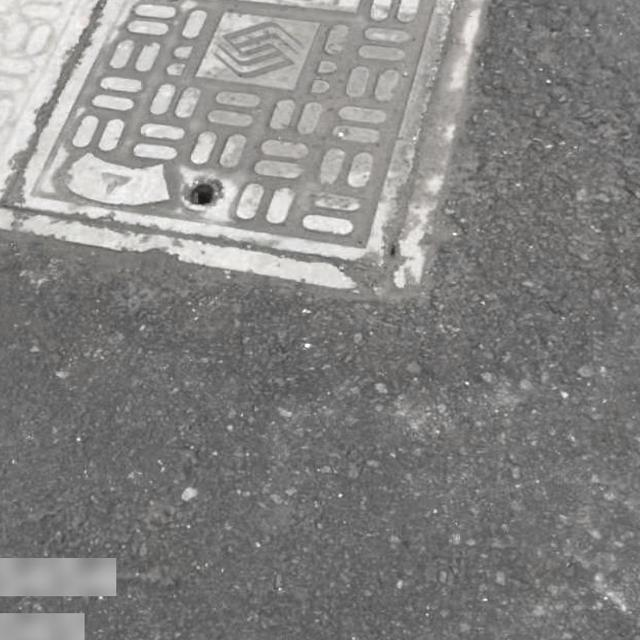good: (0, 0, 509, 294)
